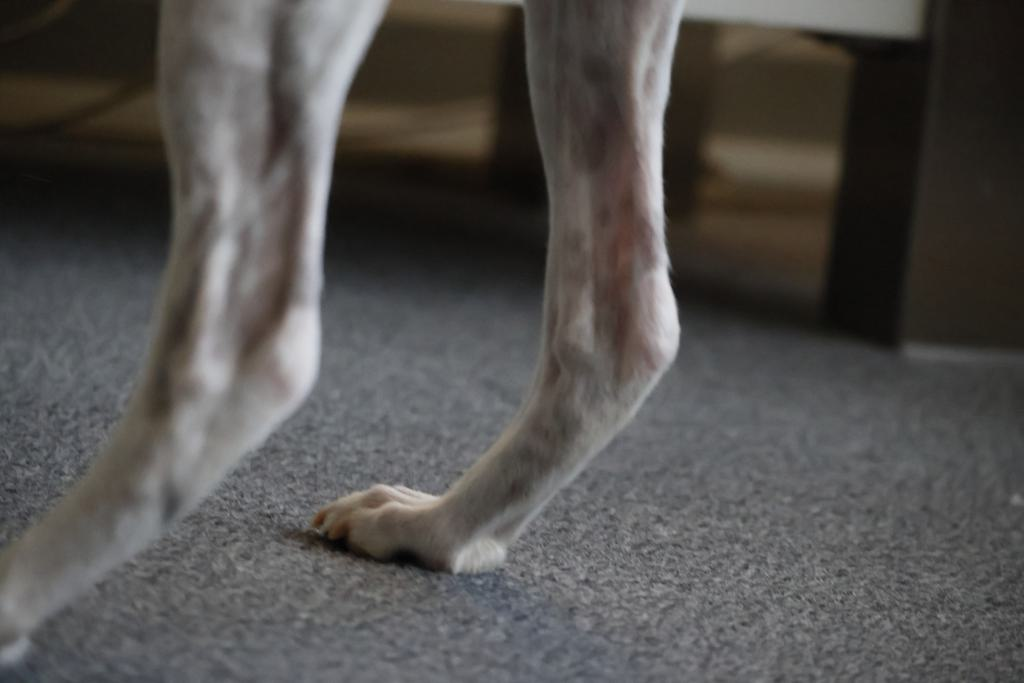Dog: (0, 0, 698, 672)
